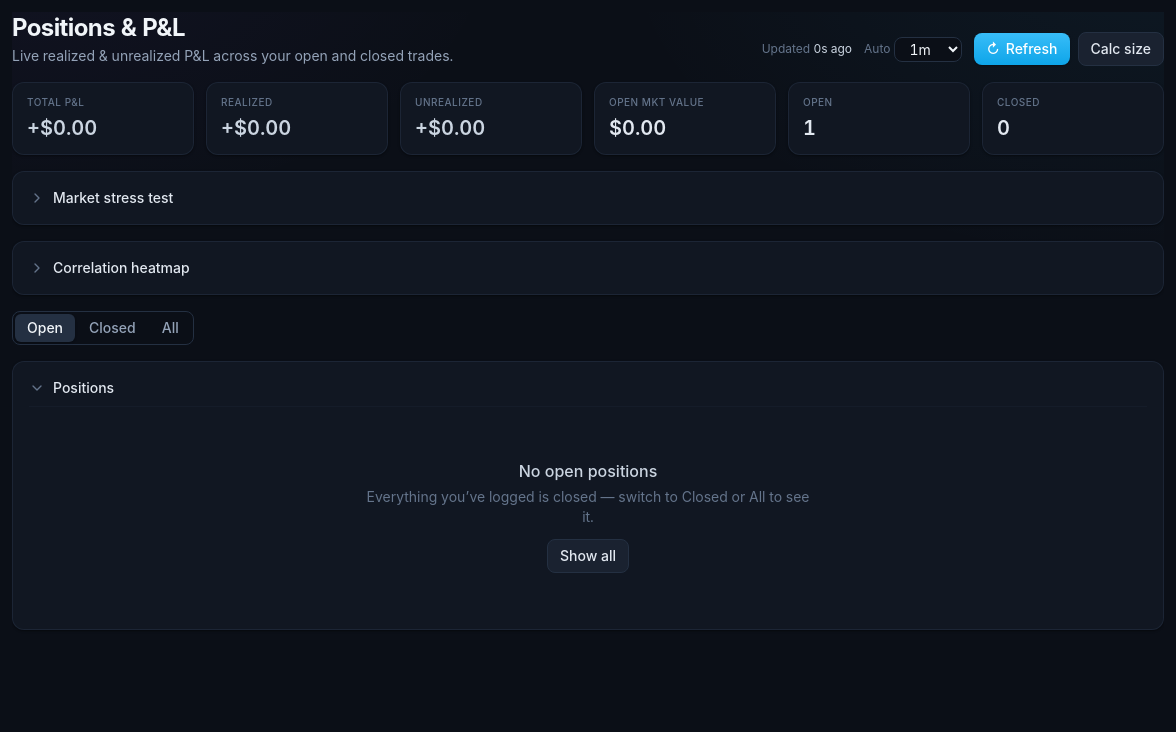
Scenario: PositionsPage — close vs exit action gating › never shows close/exit for an already-closed position
What coordinates should you click on to do the following:
click the tab "All"
I would click on:
 (170, 328)
Its box is [150, 314, 191, 342].
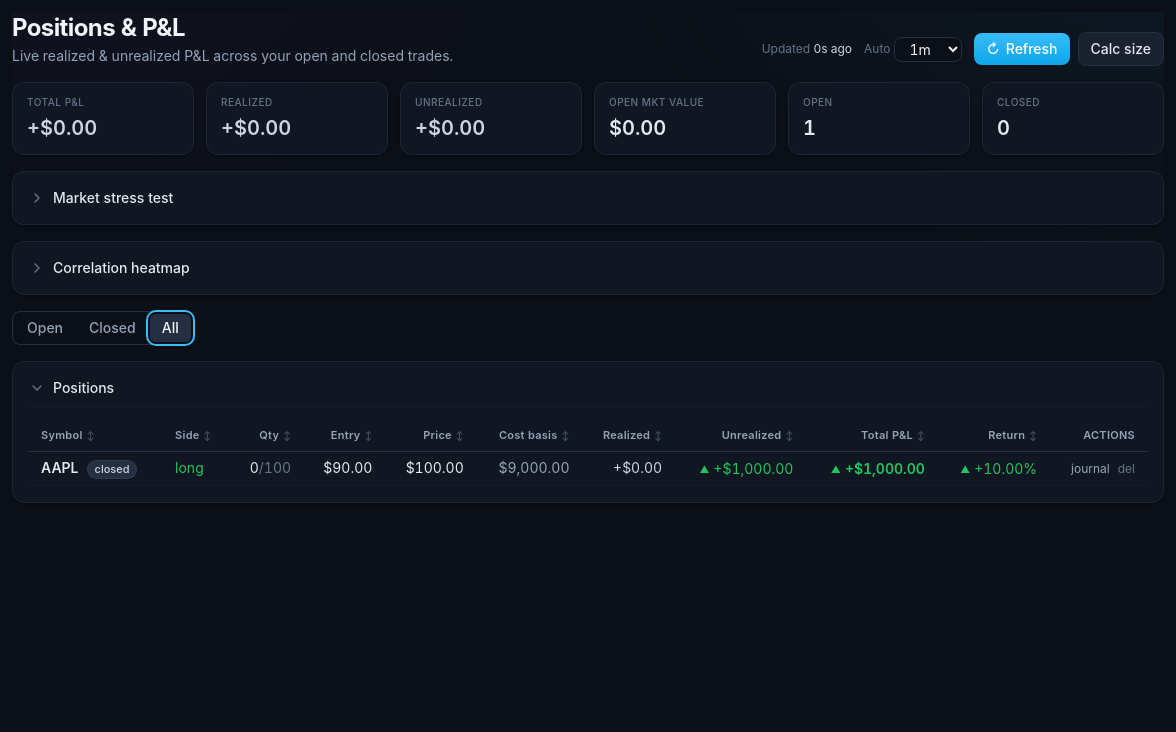
Now the link "AAPL" is shown, box [41, 459, 78, 476]
